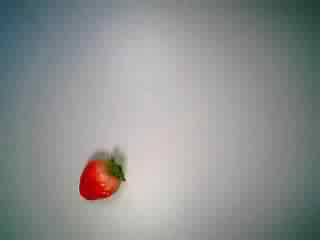strawberry: (68, 143, 134, 205)
